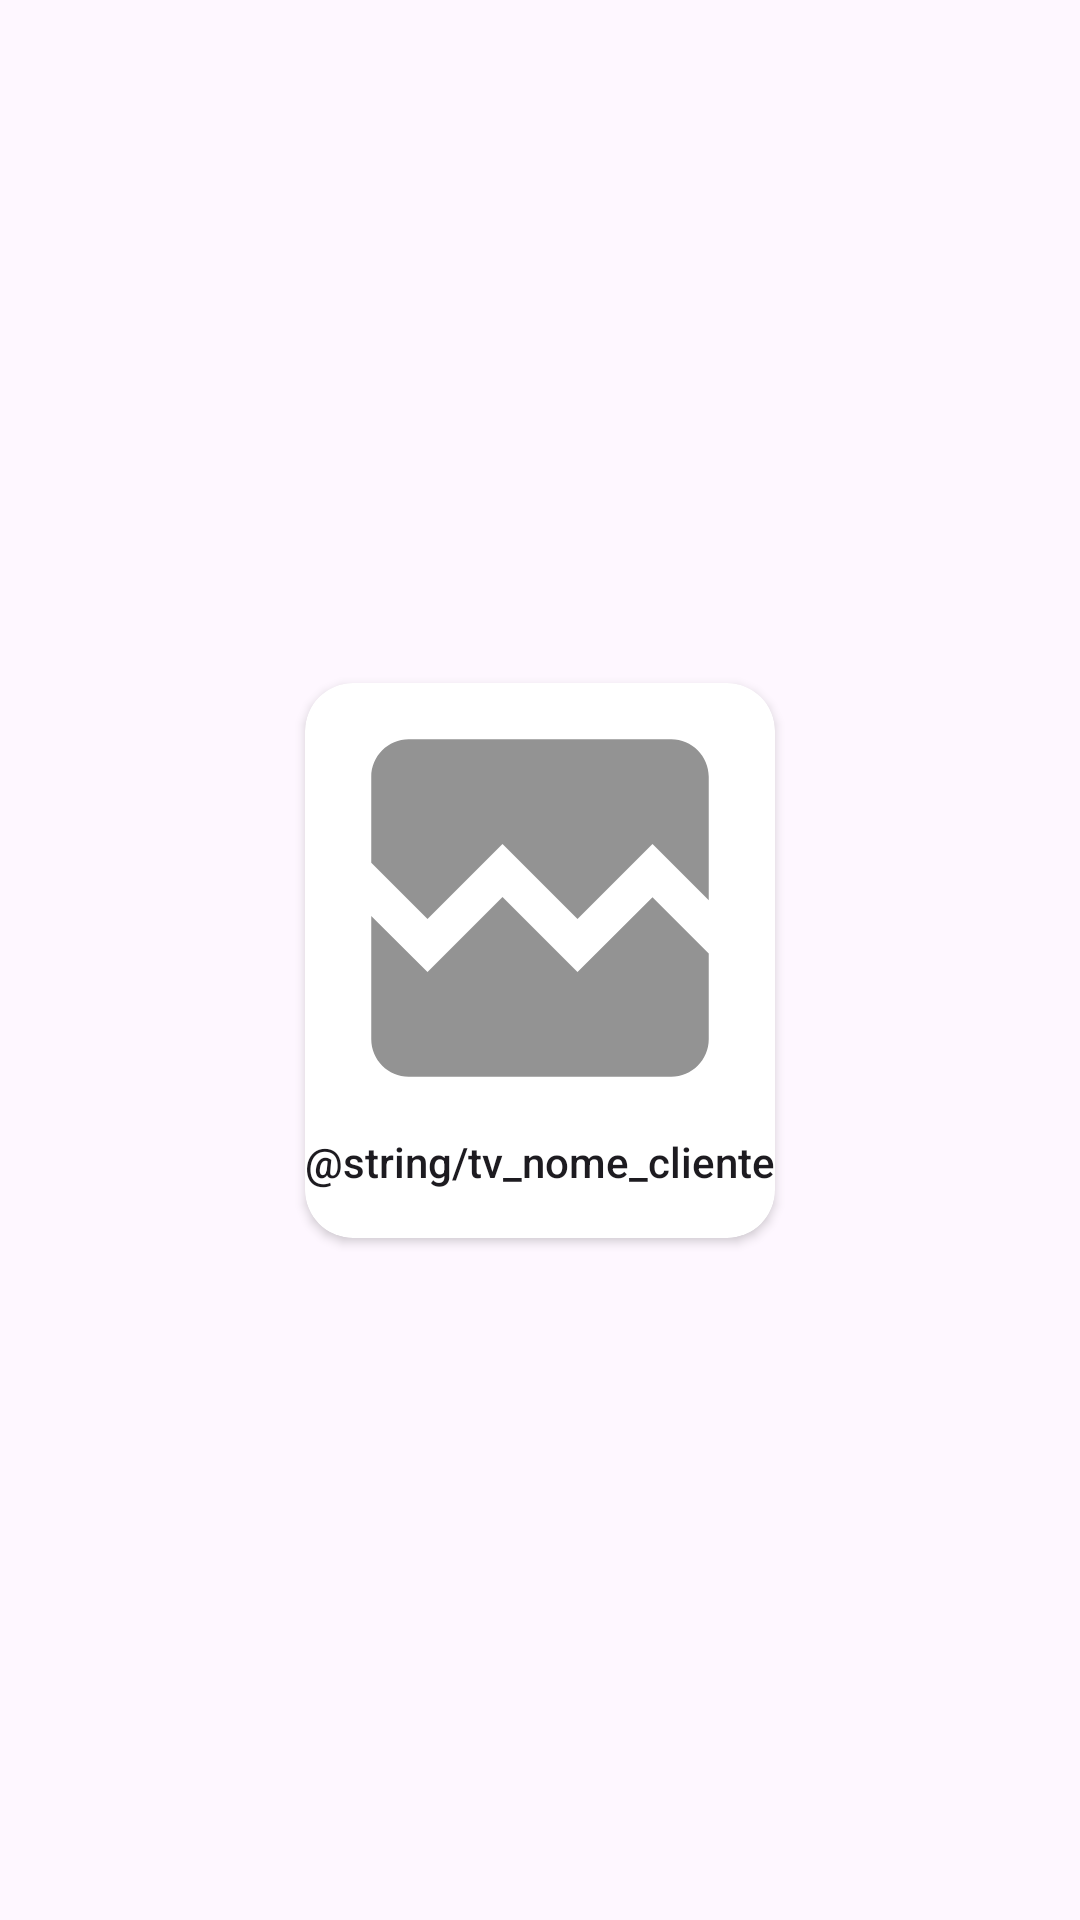

Icons on this 1080×1920 Android screen, each with the point to tap as [x,y]:
broken: [540,908]
